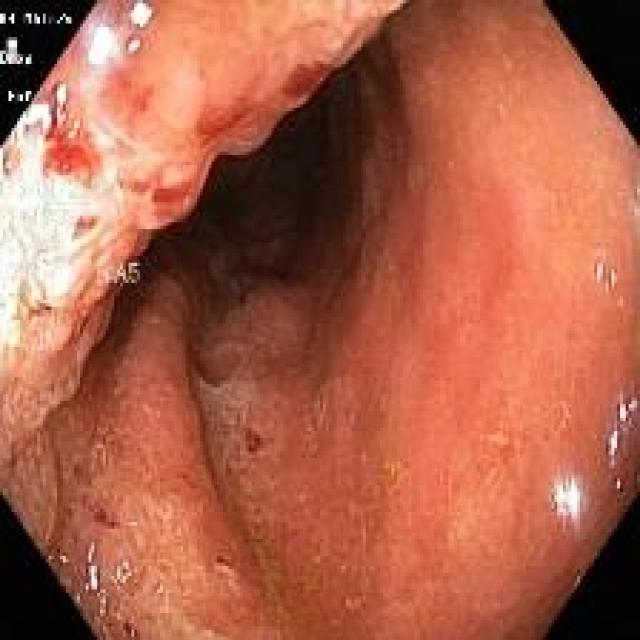Polyps: (0, 1, 401, 545), (195, 284, 310, 385)
